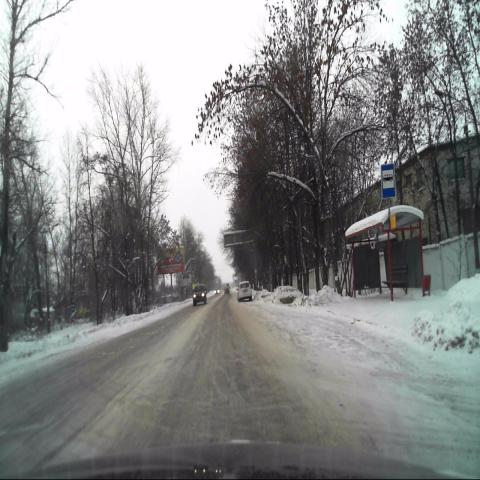5_16: (381, 162, 395, 198)
